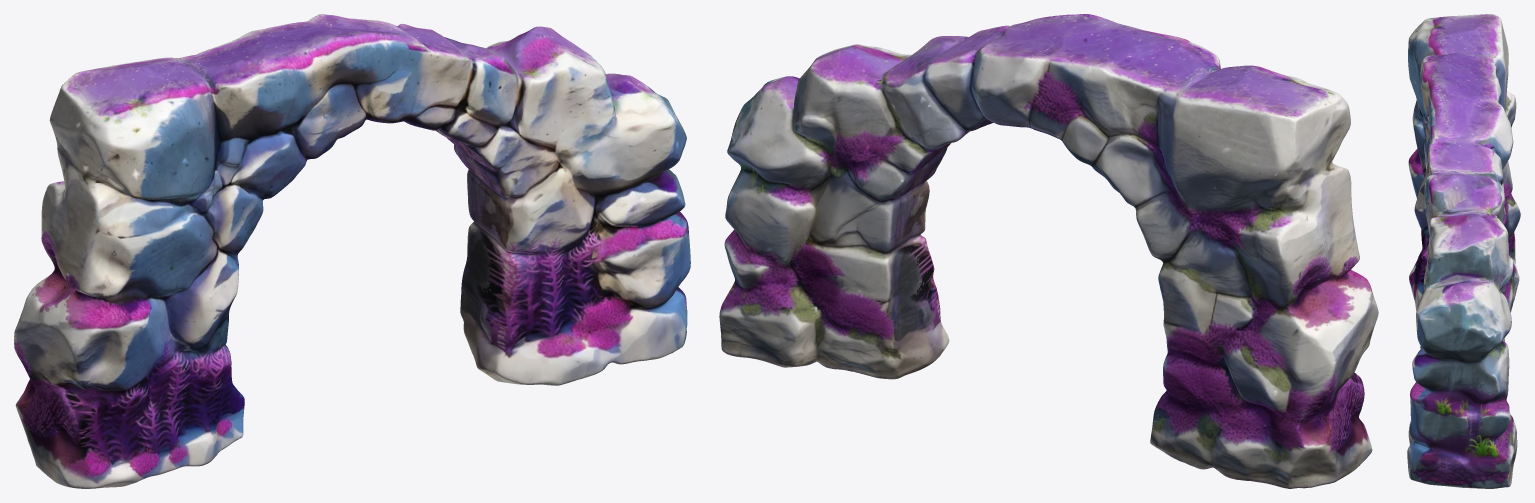
The model's file is arch_texture.glb.
The picture shows the model from 3 angles, left to right: view 1: azimuth 30°, elevation 25°; view 2: azimuth 150°, elevation 25°; view 3: azimuth 270°, elevation 25°; orthographic projection. The views are drawn at different scales.
Size of the model in its own units: 2 by 1.19 by 0.4251.
1 material, 1 textured.
